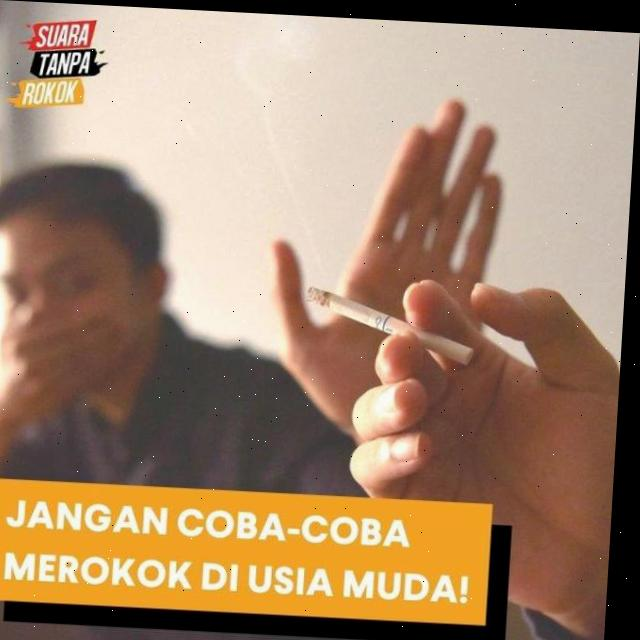cigarette: (310, 283, 480, 361)
